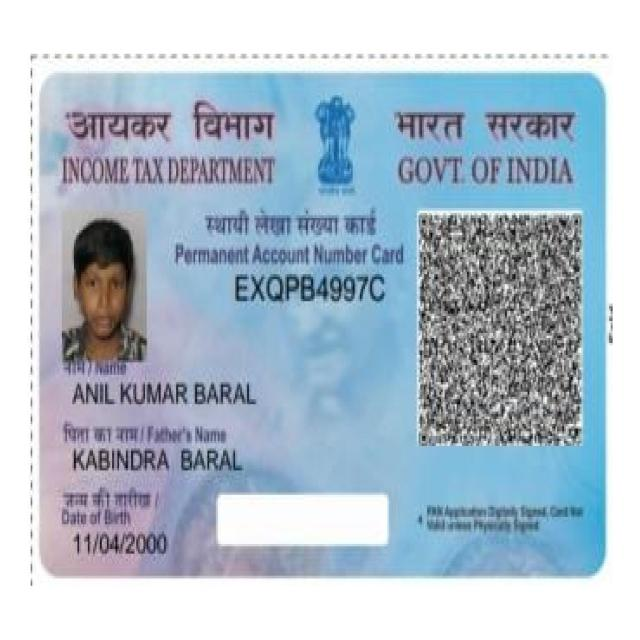pan_card: (36, 74, 600, 572)
